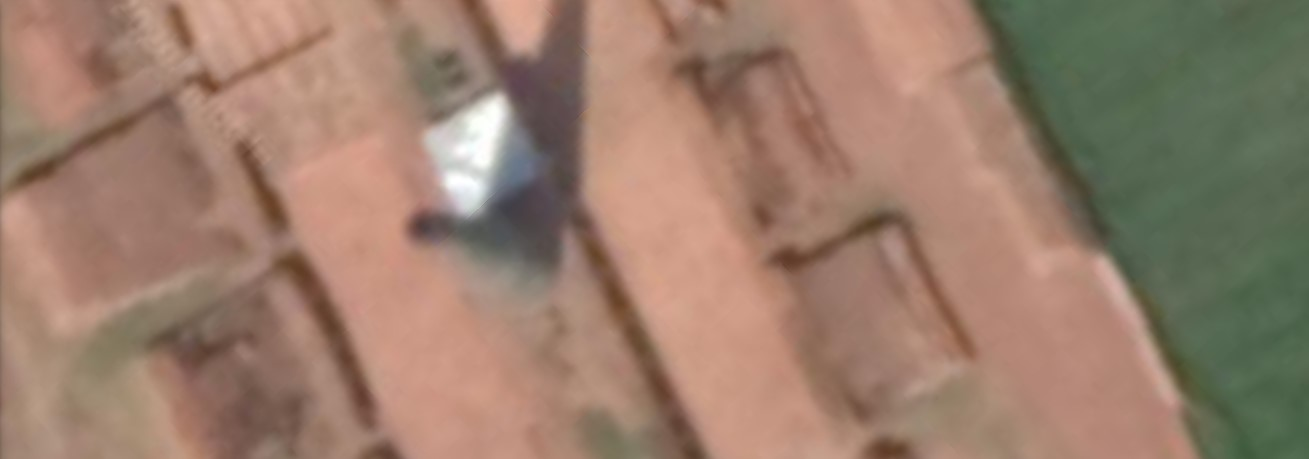kiln: (229, 1, 750, 450)
